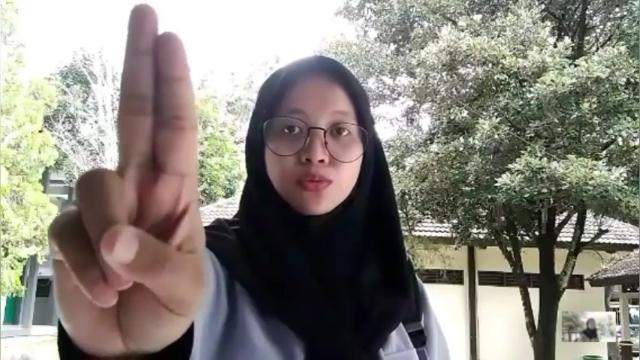U: (29, 0, 218, 360)
